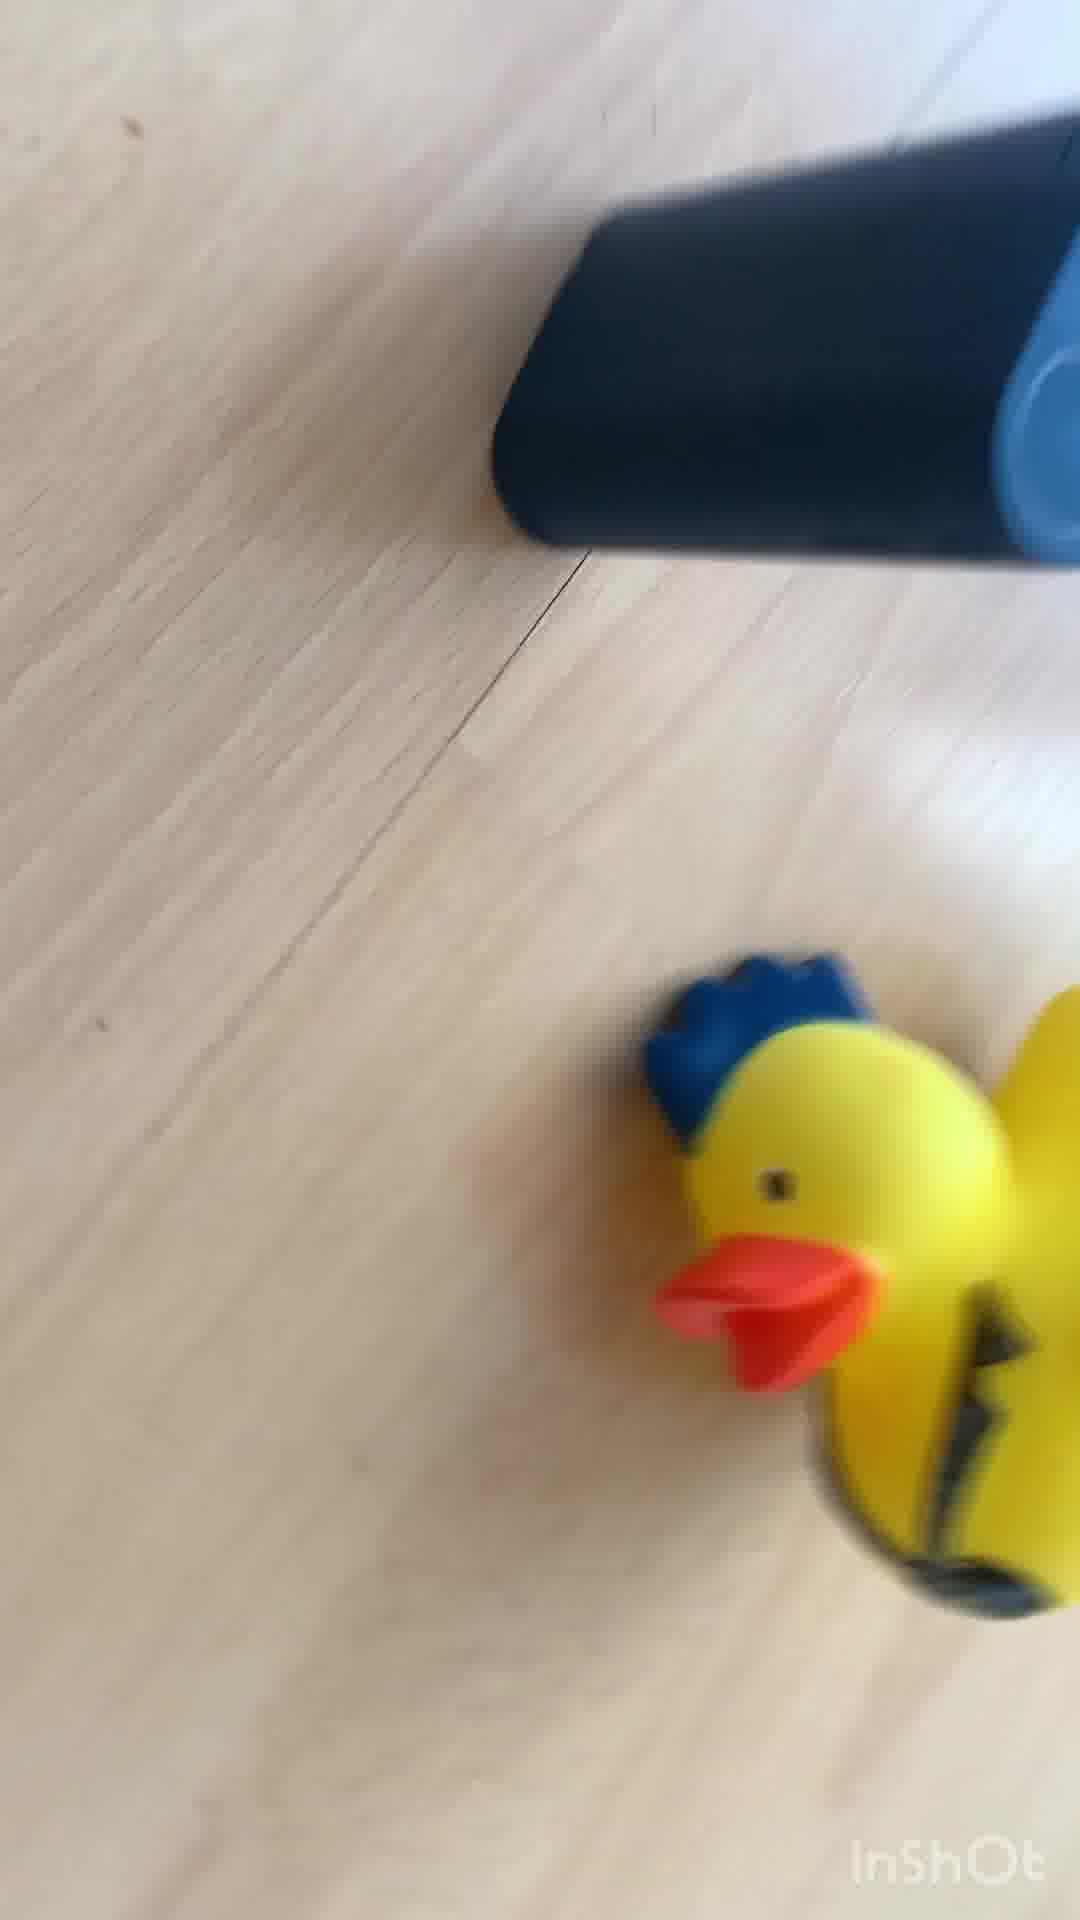duck: (621, 909, 1080, 1631)
glo: (464, 111, 1080, 597)
